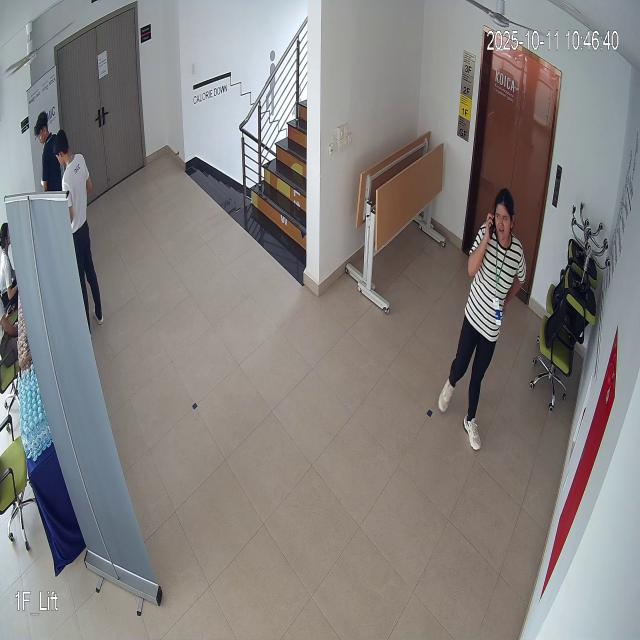face: (486, 179, 520, 253)
